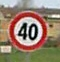limite 40: (8, 9, 48, 52)
